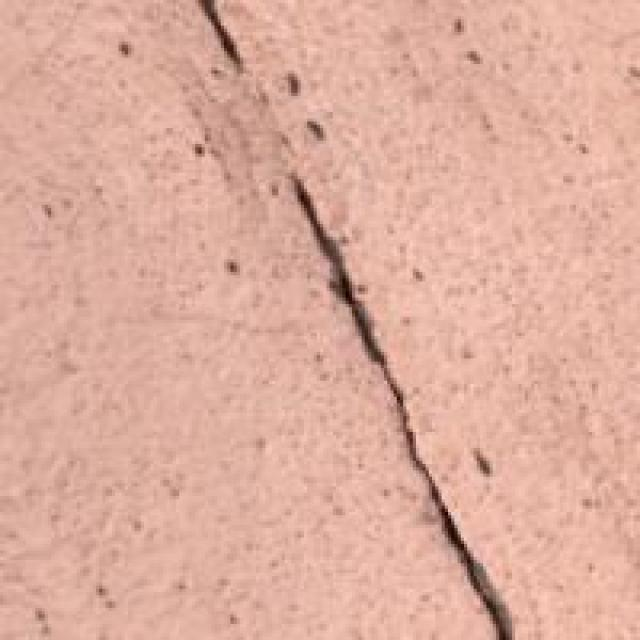Crack: (206, 0, 533, 634)
